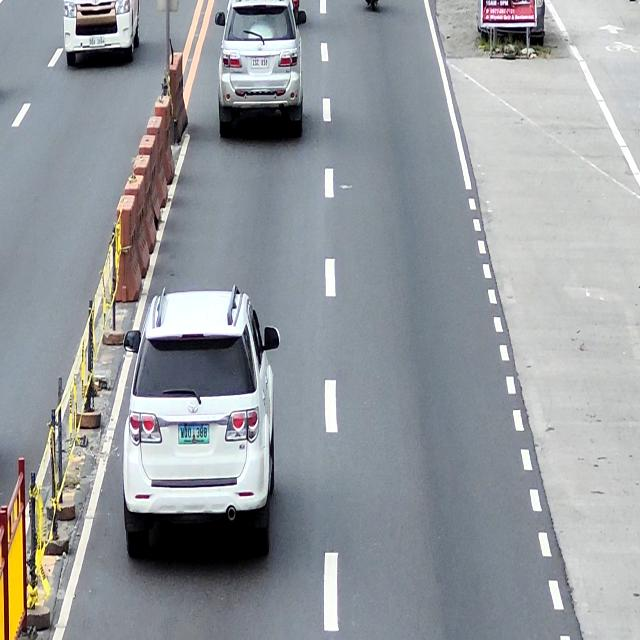Car: (122, 290, 280, 562), (214, 0, 308, 140), (62, 0, 140, 66)
License-Plate: (177, 423, 211, 446), (250, 57, 270, 69), (88, 35, 105, 47)
